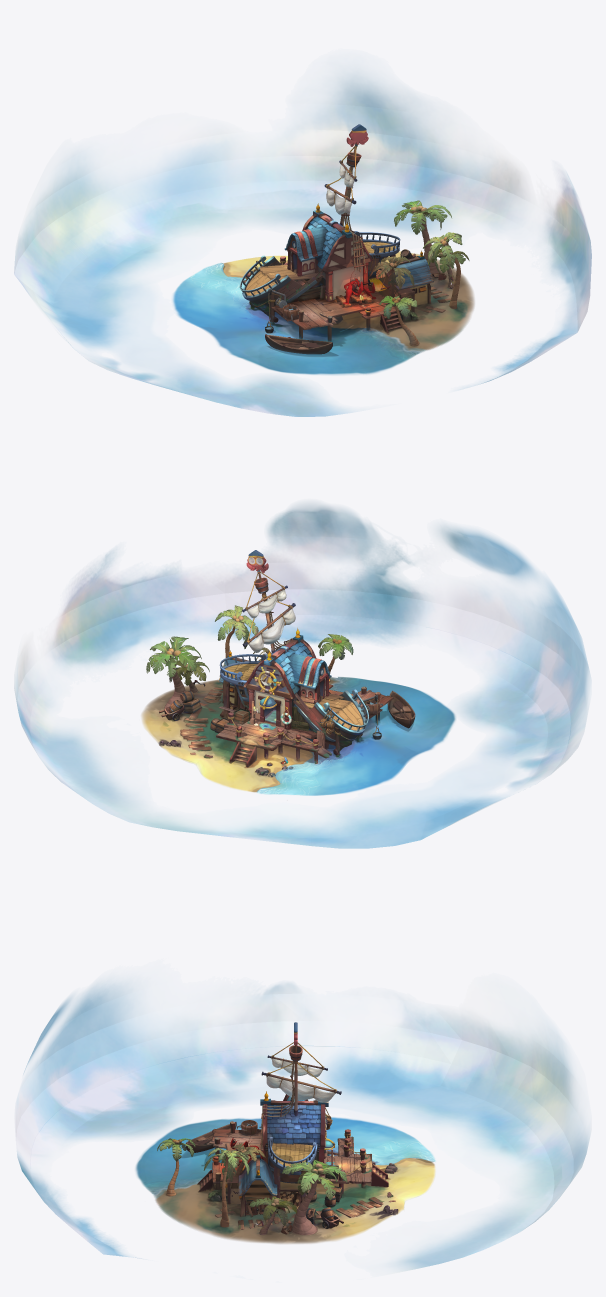
The model's file is ocean.glb.
3 views of the same model, one above another, from view 1: azimuth 30°, elevation 25°; view 2: azimuth 150°, elevation 25°; view 3: azimuth 270°, elevation 25° (orthographic).
Parts seen in each view (by area): view 1: Object_6, Object_4, Object_2; view 2: Object_6, Object_2, Object_4; view 3: Object_6, Object_2, Object_4.
Part boxes in pixels (x1=…): Object_6: x1=14, y1=71, x2=591, y2=416; Object_4: x1=174, y1=143, x2=474, y2=355; Object_2: x1=172, y1=124, x2=469, y2=374; Object_6: x1=14, y1=502, x2=590, y2=848; Object_2: x1=142, y1=550, x2=455, y2=795; Object_4: x1=141, y1=569, x2=444, y2=792; Object_6: x1=15, y1=981, x2=591, y2=1271; Object_2: x1=135, y1=1022, x2=435, y2=1237; Object_4: x1=153, y1=1045, x2=435, y2=1243.
Size of the model in its own units: 626 by 328 by 621.
3 materials, 3 textured.
